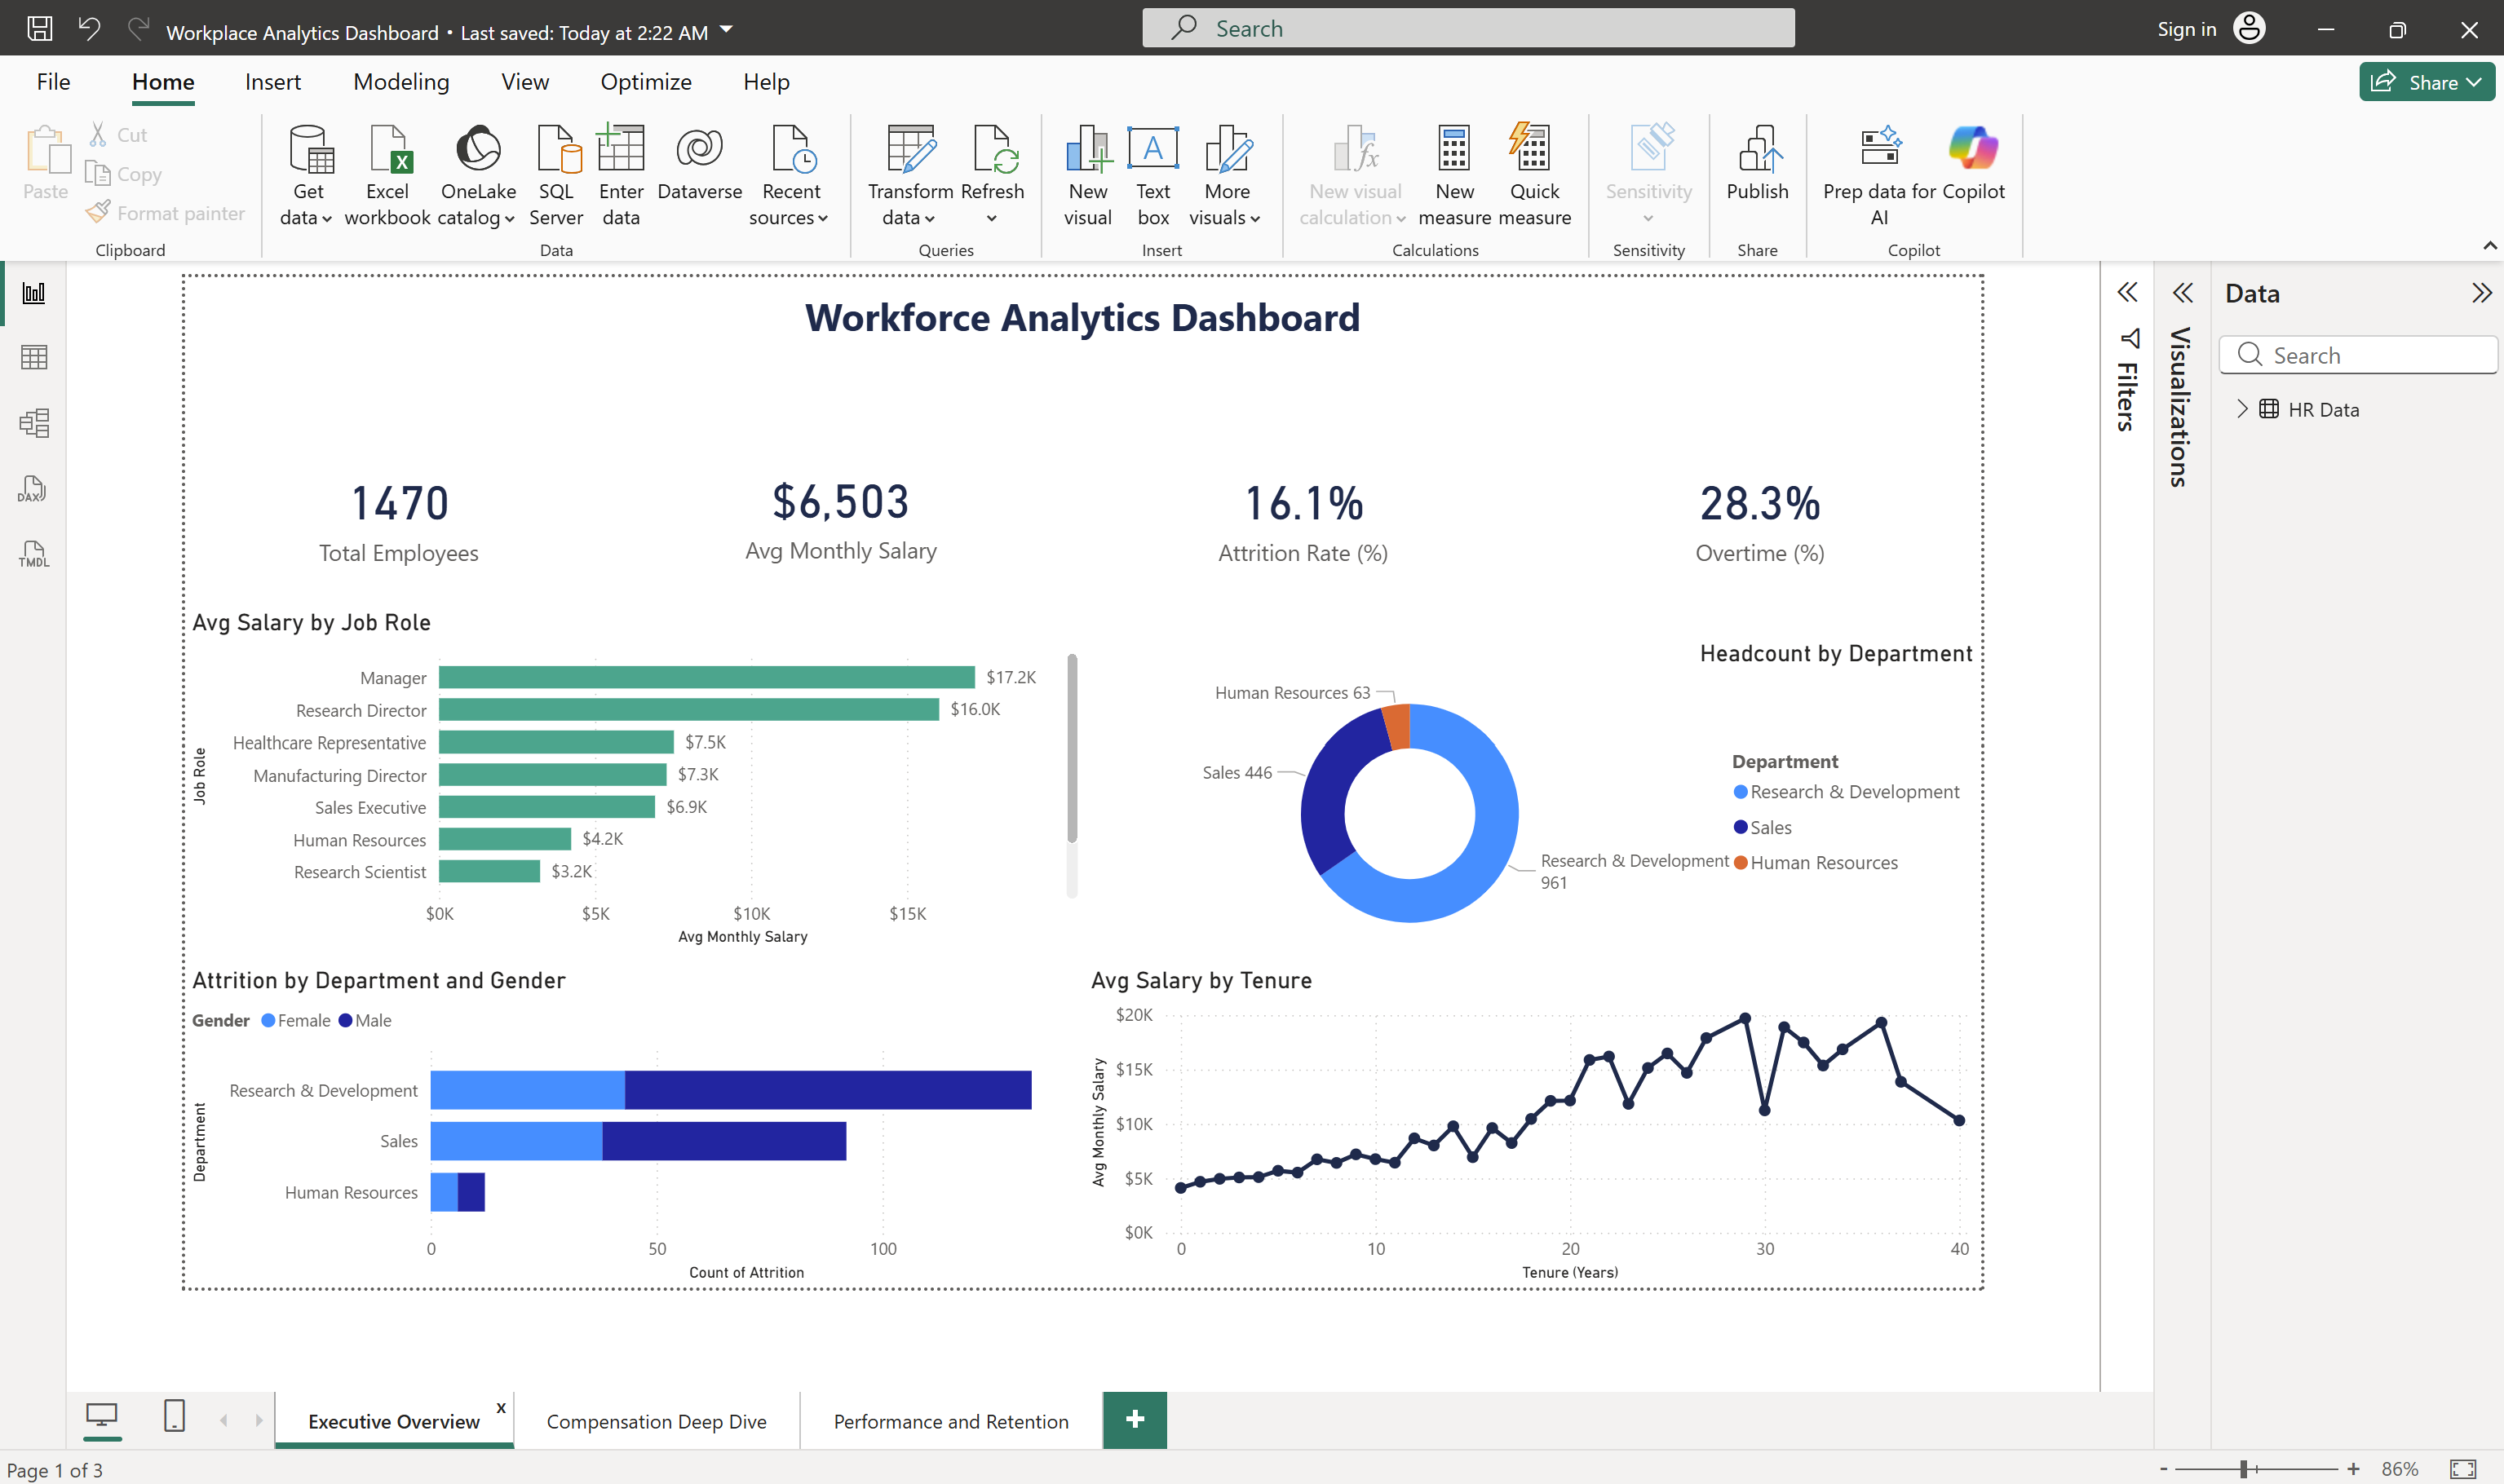

This screenshot's page, from the dashboard's own definition file:
{"tool":"powerbi","page":{"name":"Executive Overview","canvas":[1280,720],"ordinal":0},"visuals":[{"type":"card","fields":{"Values":["HR Data.Total Employees"]},"box":[0,76.2,304.9,184],"z":0},{"type":"card","fields":{"Values":["HR Data.Avg Monthly Salary"]},"box":[304.9,76.2,325.9,181.4],"z":1000},{"type":"card","fields":{"Values":["HR Data.Attrition Rate"]},"box":[630.8,76.2,333.8,184],"z":2000},{"type":"card","fields":{"Values":["HR Data.Overtime Percentage"]},"box":[964.6,76.2,315.4,184],"z":3000},{"type":"clusteredBarChart","title":"Avg Salary by Job Role","fields":{"Category":["HR Data.Job Role"],"Y":["HR Data.Avg Monthly Salary"]},"box":[0,236.6,641.3,244.4],"z":4000},{"type":"donutChart","title":"Headcount by Department","fields":{"Category":["HR Data.Department"],"Y":["HR Data.Total Employees"]},"box":[638.7,257.6,641.3,228.7],"z":5000},{"type":"barChart","title":"Attrition by Department and Gender","fields":{"Category":["HR Data.Department"],"Y":["CountNonNull(HR Data.Attrition)"],"Series":["HR Data.Gender"]},"box":[0,491,641,229],"z":6000},{"type":"lineChart","title":"Avg Salary by Tenure","fields":{"Category":["HR Data.Tenure (Years)"],"Y":["HR Data.Avg Monthly Salary"]},"box":[641,491,639,229],"z":7000},{"type":"textbox","box":[0,4.7,1280,50],"z":7001}]}

Visuals, with their boxes on the page's 1280x720 design canvas (x1, y1, x2, y2). These are canvas units, not pixel positions in the 2504x1484 screenshot, which may show the page scaled, cropped or inside an application window:
card - HR Data.Total Employees: l=0, t=76, r=305, b=260
card - HR Data.Avg Monthly Salary: l=305, t=76, r=631, b=258
card - HR Data.Attrition Rate: l=631, t=76, r=965, b=260
card - HR Data.Overtime Percentage: l=965, t=76, r=1280, b=260
"Avg Salary by Job Role" clusteredBarChart: l=0, t=237, r=641, b=481
"Headcount by Department" donutChart: l=639, t=258, r=1280, b=486
"Attrition by Department and Gender" barChart: l=0, t=491, r=641, b=720
"Avg Salary by Tenure" lineChart: l=641, t=491, r=1280, b=720
textbox: l=0, t=5, r=1280, b=55
